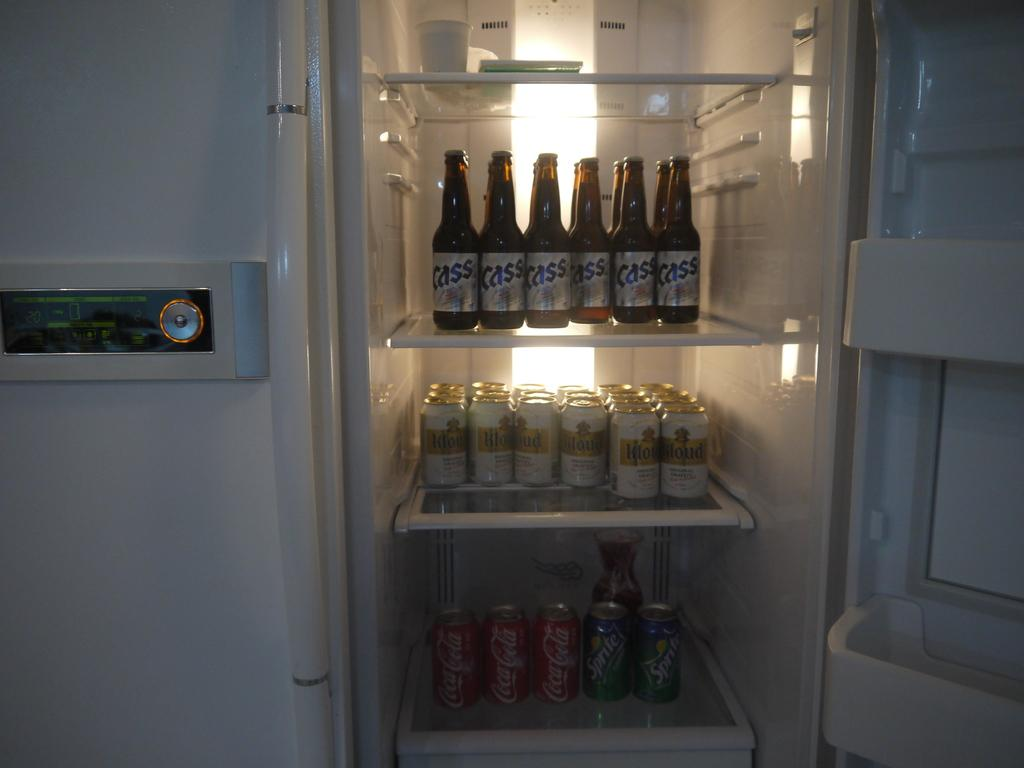handle: (255, 118, 345, 664)
